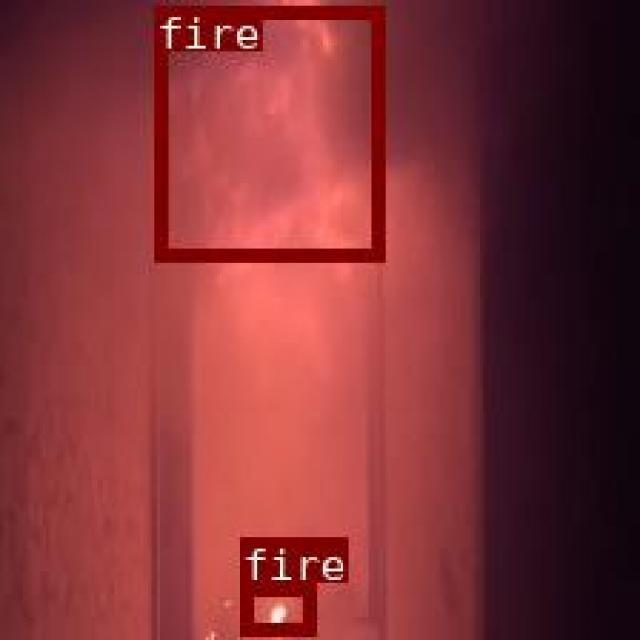fire: (154, 5, 382, 259), (240, 580, 313, 633)
